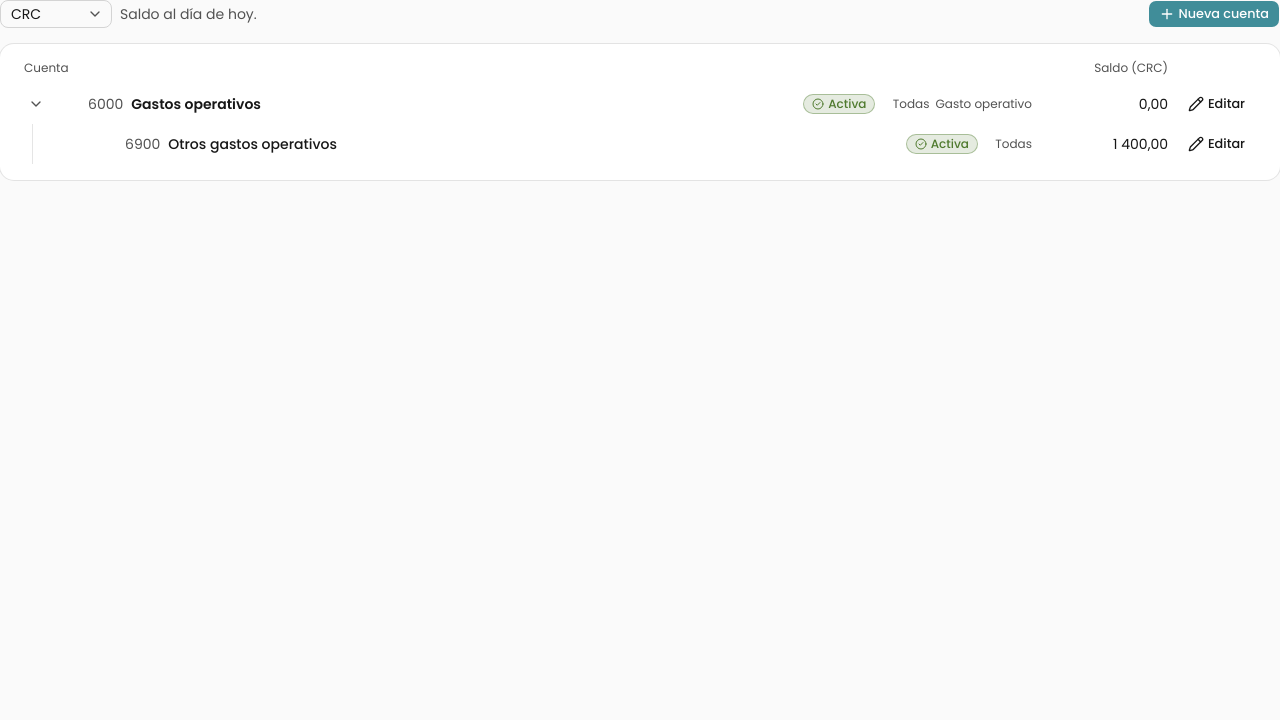
Test: FinanceAccountsTree — edición: el PATCH lleva solo lo que se tocó › el código se puede leer y copiar, pero no cambiar
This screenshot has width=1280, height=720.
Click the button "Editar" next to "1 400,00".
click(1216, 144)  # box [1177, 130, 1256, 158]
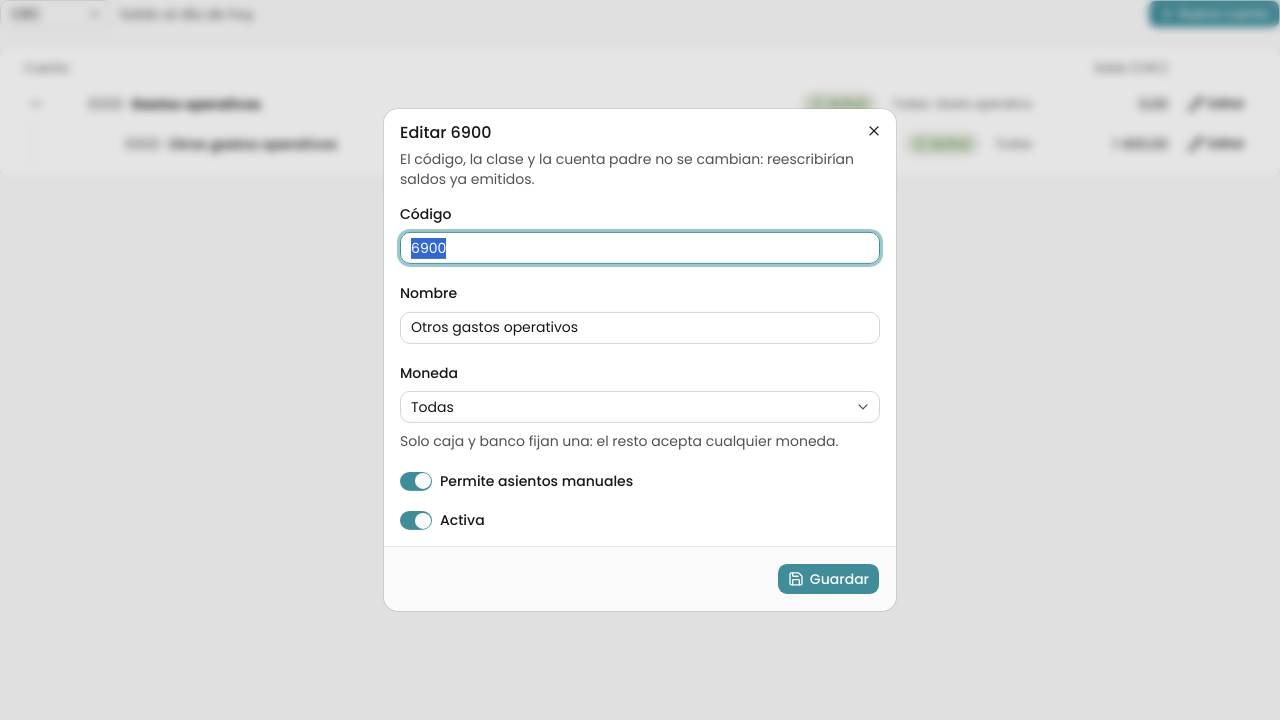
Result: the dialog is shown at [384, 109, 896, 611]
Result: the field labelled "Código" holds "6900" at [400, 232, 880, 264]
